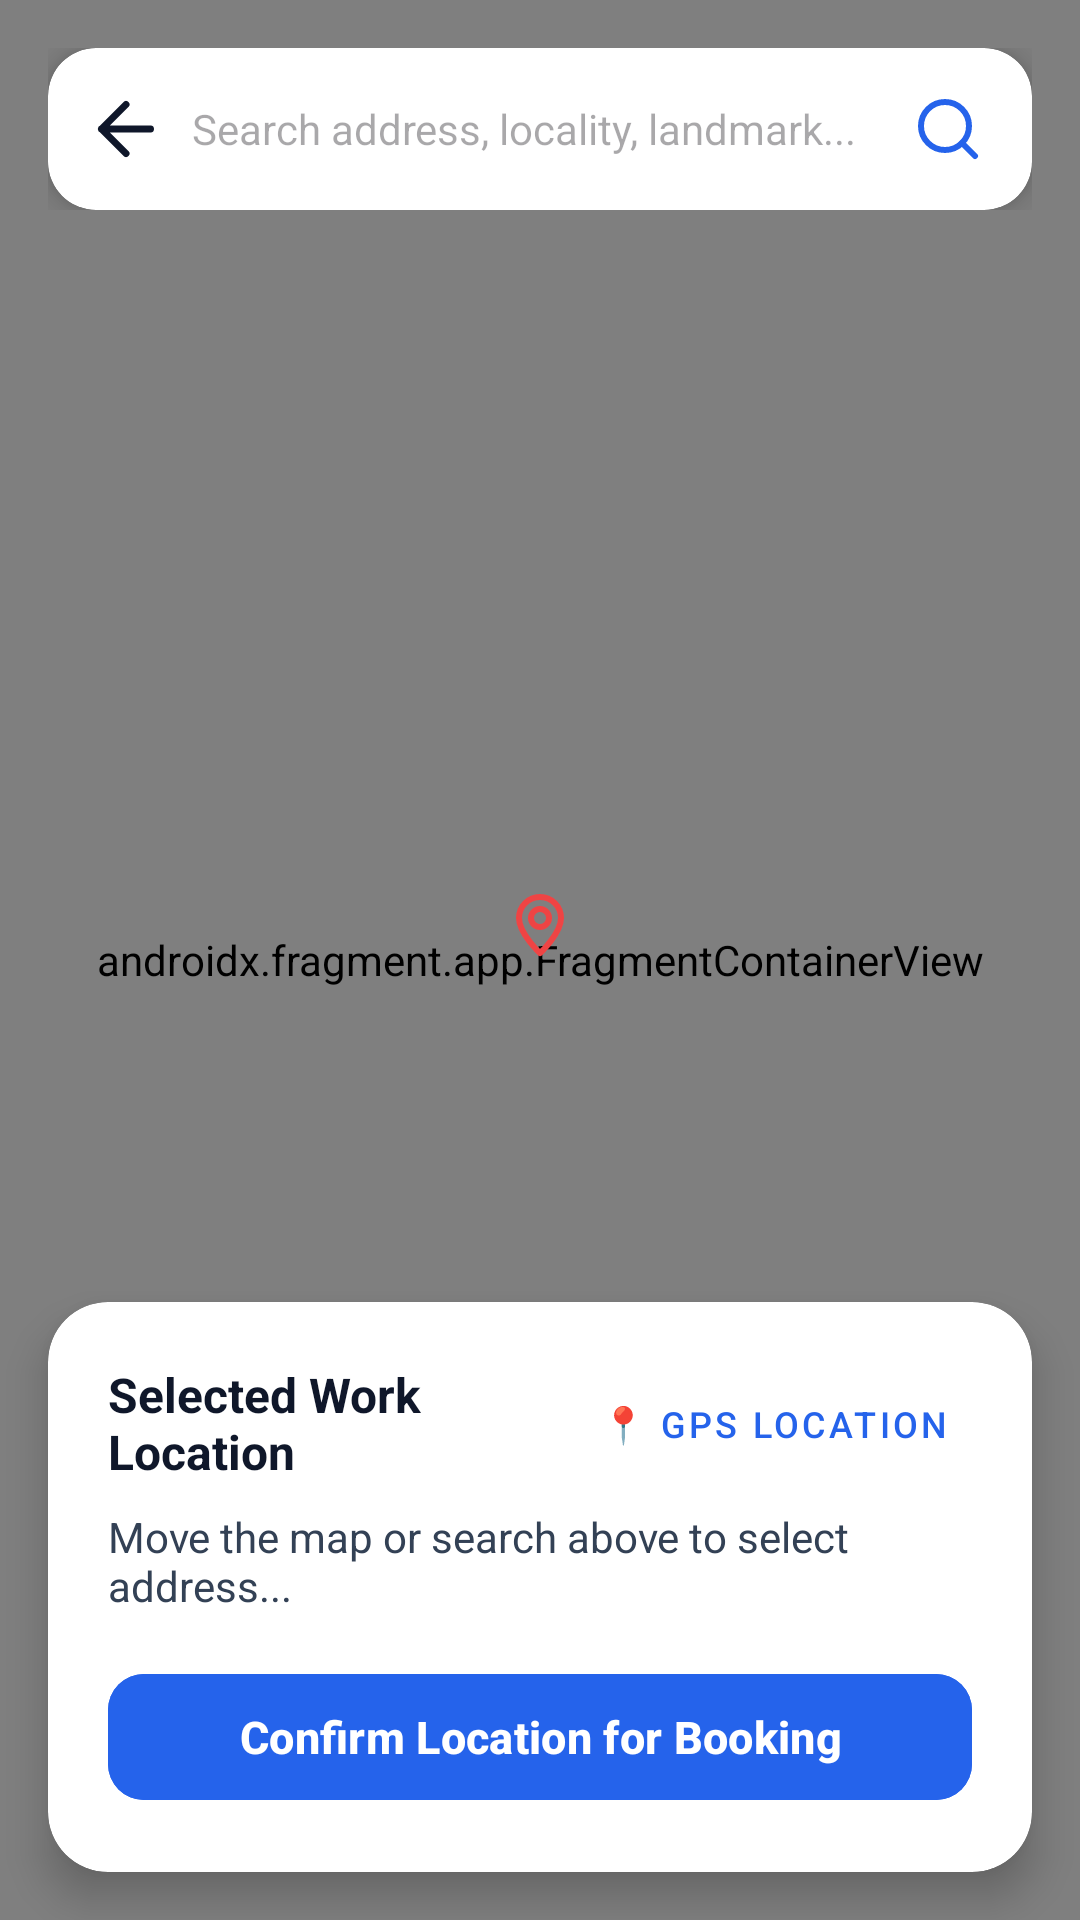

Icons on this 1080×1920 Android screen, each with its box as {"left": x1, "top": y1, "right": x2, "bottom": y2}:
back: {"left": 98, "top": 101, "right": 154, "bottom": 157}
